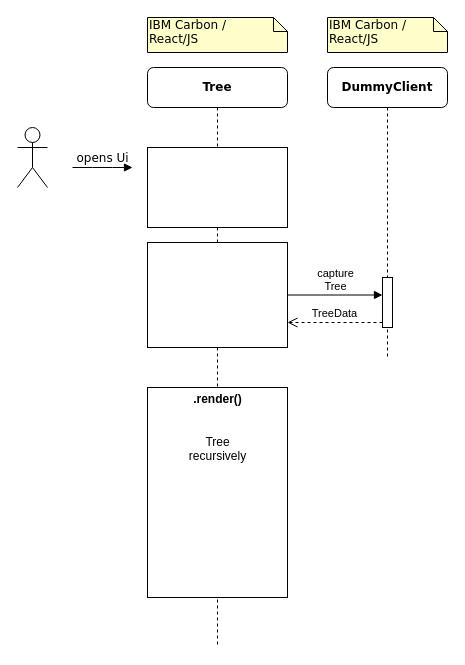
The diagram is 465 pixels wide and 665 high, and some of its shapes have lost their labels. Here are the shapes that lost their labels. From the top down, the centre of each, then its label:
At (x=32, y=157): "Actor".
At (x=217, y=187): ".render() InLineLoading".
At (x=217, y=295): ".componentDidMount() update state".
